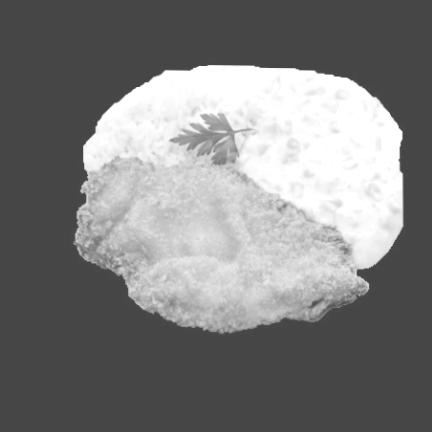chicken: (76, 157, 368, 332)
corn: (238, 72, 402, 267)
rice: (84, 65, 280, 169)
